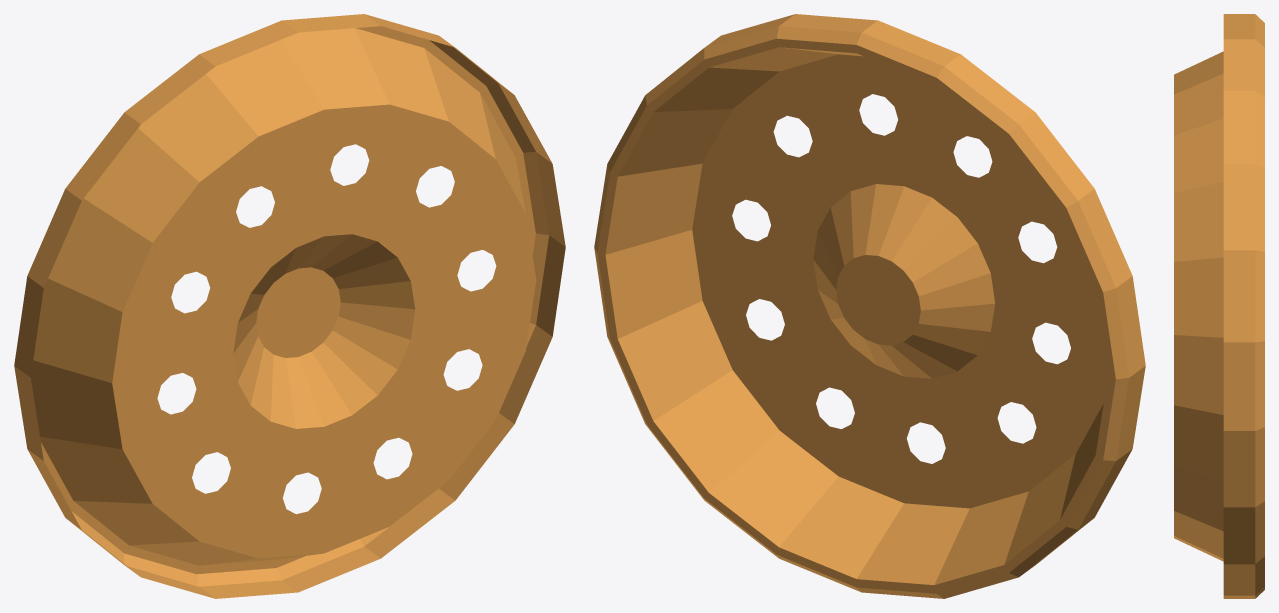
Rendered from Ring1.fbx.
The picture shows the model from 3 angles, left to right: view 1: azimuth 30°, elevation 25°; view 2: azimuth 150°, elevation 25°; view 3: azimuth 270°, elevation 25°; orthographic projection. The views are drawn at different scales.
Visible parts, largest first — view 1: polySurface14; view 2: polySurface14; view 3: polySurface14.
Boxes of the visible parts, x1=… form: polySurface14: x1=14, y1=14, x2=565, y2=598; polySurface14: x1=594, y1=14, x2=1145, y2=598; polySurface14: x1=1174, y1=14, x2=1264, y2=598.
Size of the model in its own units: 0.0291 by 0.0291 by 0.00449.
